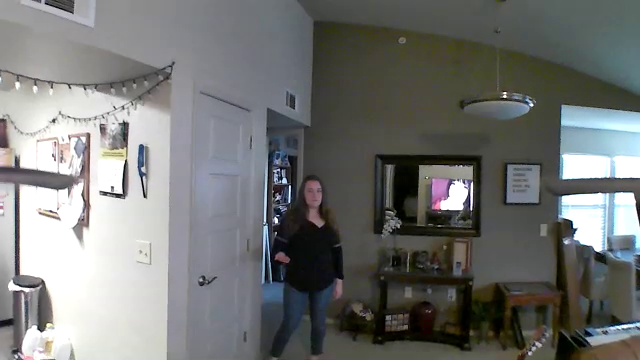land: (269, 250, 295, 268)
